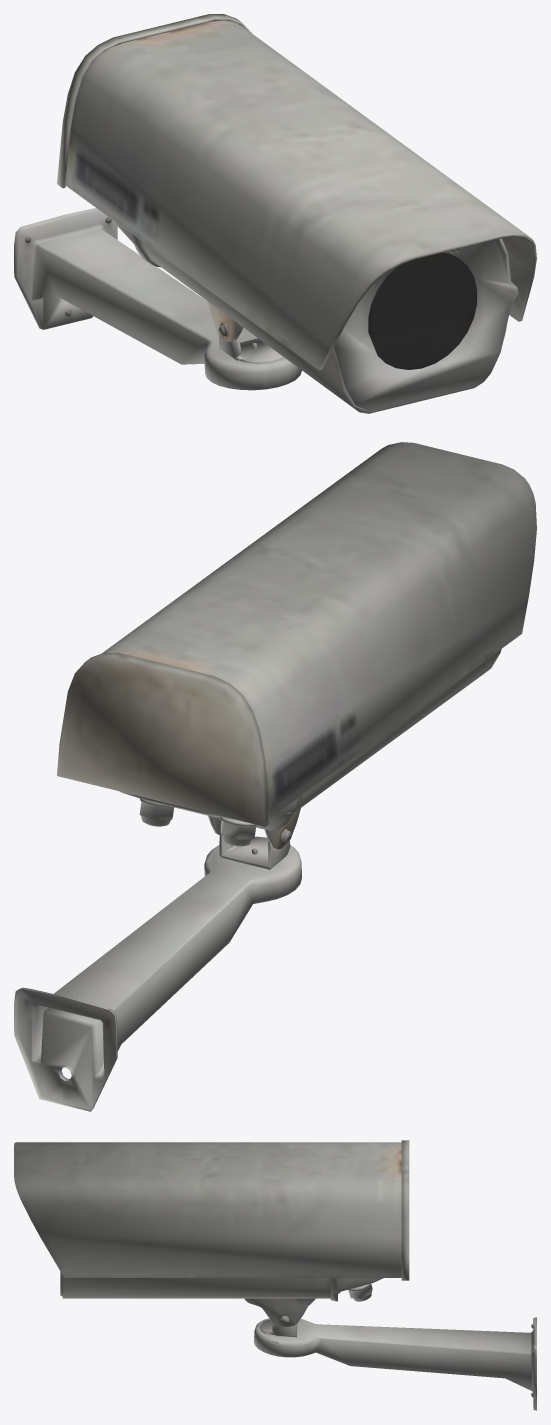
Rendered from camera.glb.
3 renders of one model, top to bottom at view 1: azimuth 30°, elevation 25°; view 2: azimuth 150°, elevation 25°; view 3: azimuth 270°, elevation 25°, orthographic. The views are drawn at different scales.
Parts seen in each view (by area): view 1: security_camera_01; view 2: security_camera_01; view 3: security_camera_01.
Boxes of the visible parts, <box> form: security_camera_01: <box>14,14,536,413</box>; security_camera_01: <box>14,442,536,1111</box>; security_camera_01: <box>14,1140,536,1410</box>.
Size of the model in its own units: 0.1696 by 0.2848 by 0.5536.
Materials: 2 (2 with a texture image).
